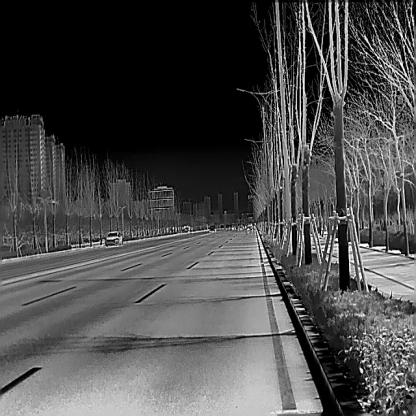car: (104, 230, 121, 246), (208, 225, 216, 232)
